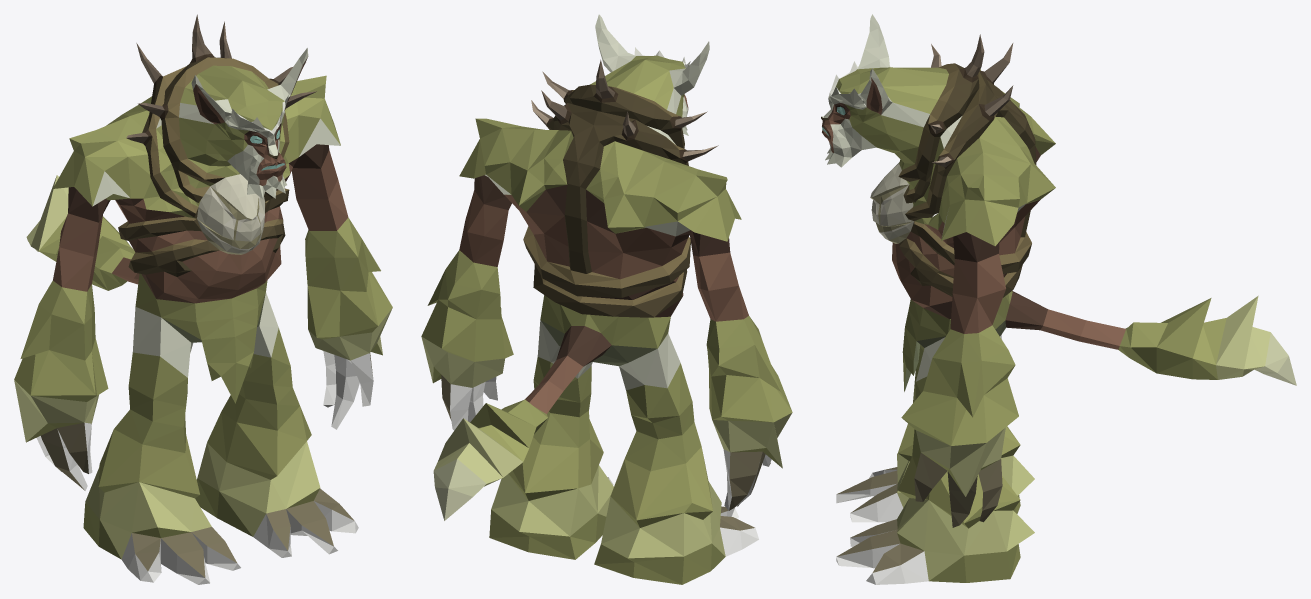
File: soul-wars.gltf
3 renders of one model, left to right at view 1: azimuth 30°, elevation 25°; view 2: azimuth 150°, elevation 25°; view 3: azimuth 270°, elevation 25°, orthographic. The views are drawn at different scales.
Size of the model in its own units: 574 by 760 by 658.
1 material, 1 textured.
